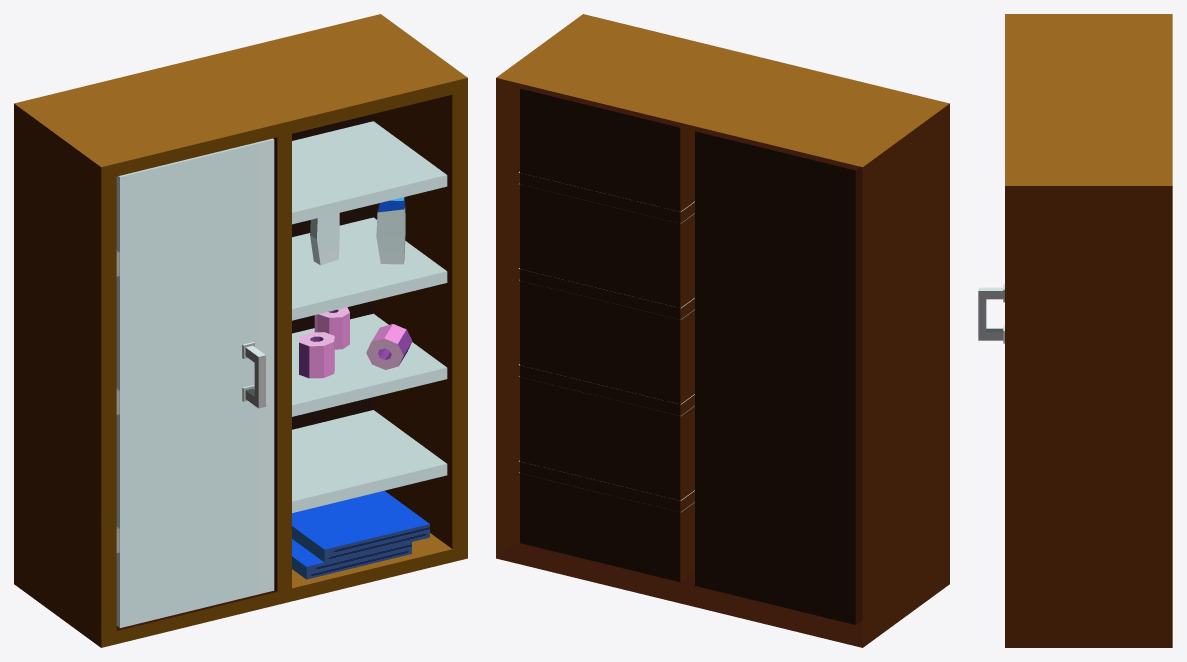
The model's file is Armoire Bathroom + props.fbx.
3 views of the same model, side by side, from view 1: azimuth 30°, elevation 25°; view 2: azimuth 150°, elevation 25°; view 3: azimuth 270°, elevation 25° (orthographic). The views are drawn at different scales.
Parts seen in each view (by area): view 1: Armoir, Porte, Truc plat, Serviettes, PQ, Shampoing; view 2: Armoir; view 3: Armoir, Porte.
Boxes of the visible parts, bbox=[...] form: Armoir: bbox=[14, 14, 467, 647]; Porte: bbox=[116, 138, 274, 627]; Truc plat: bbox=[292, 121, 447, 512]; Serviettes: bbox=[292, 490, 429, 579]; PQ: bbox=[299, 307, 412, 378]; Shampoing: bbox=[310, 197, 405, 265]; Armoir: bbox=[496, 14, 949, 647]; Armoir: bbox=[1005, 14, 1172, 647]; Porte: bbox=[978, 284, 1004, 343].
Size of the model in its own units: 200 by 250 by 95.45.
